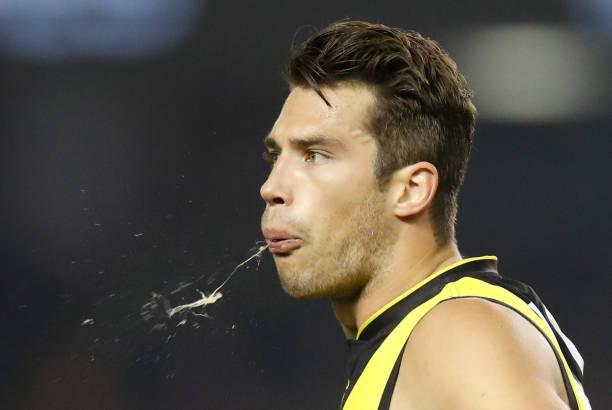Spitting: (207, 12, 497, 297)
